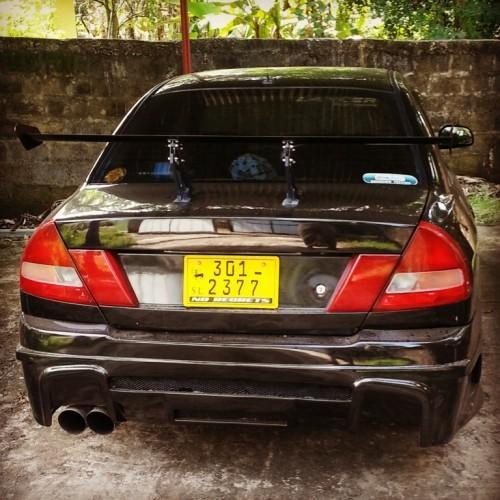license-plate: (183, 254, 278, 305)
